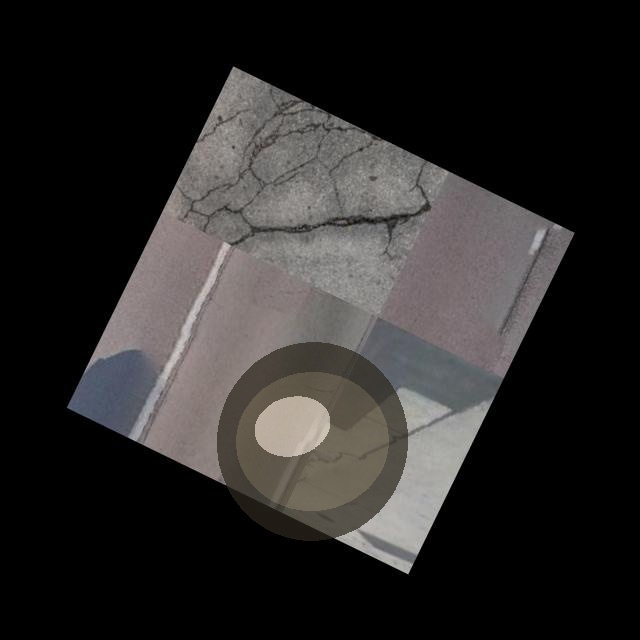waterlogging: (207, 332, 417, 550)
